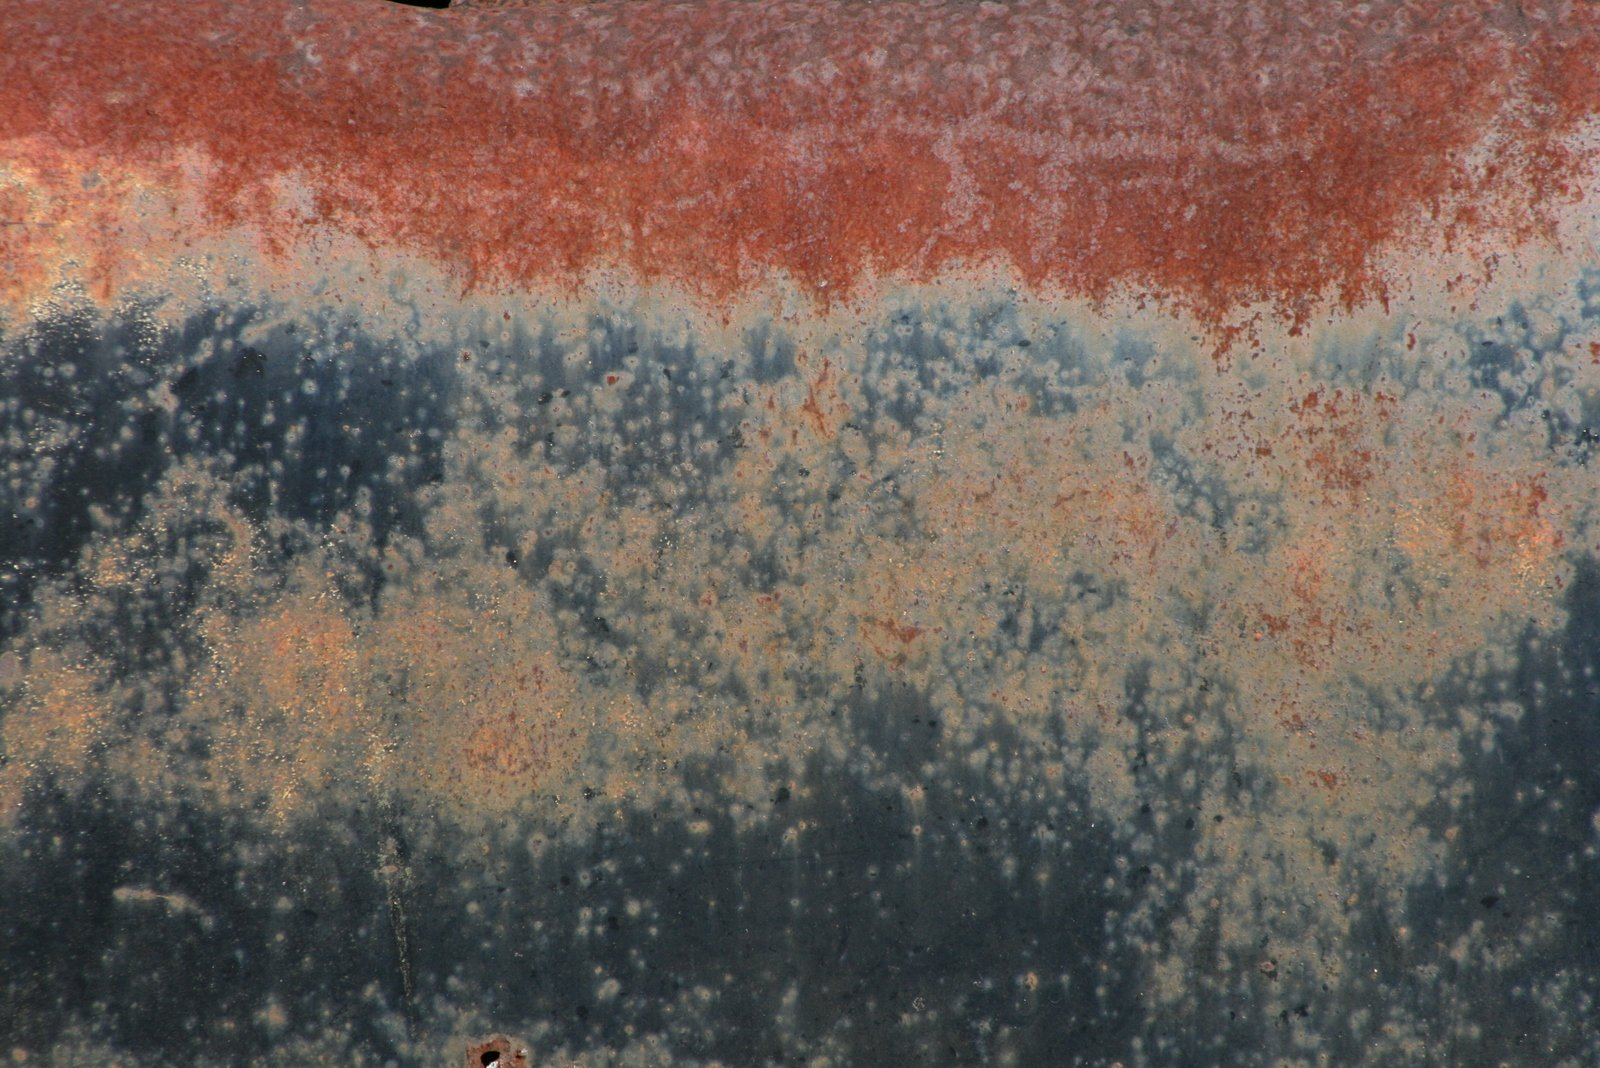rust: (5, 8, 1588, 294)
